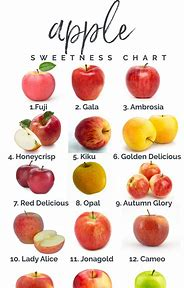inorganic: (3, 210, 66, 255), (8, 107, 64, 152), (117, 112, 180, 150), (14, 63, 66, 106), (123, 60, 167, 105), (68, 65, 113, 106), (128, 209, 170, 252), (124, 163, 175, 198), (14, 160, 61, 197), (69, 117, 117, 152), (74, 212, 116, 247), (67, 162, 112, 193), (8, 267, 65, 287), (74, 268, 123, 286), (132, 266, 172, 284)
